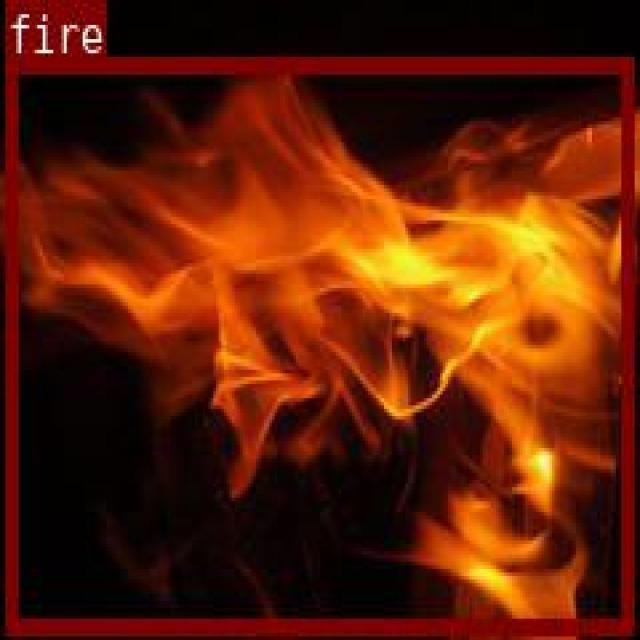fire: (3, 54, 632, 631)
